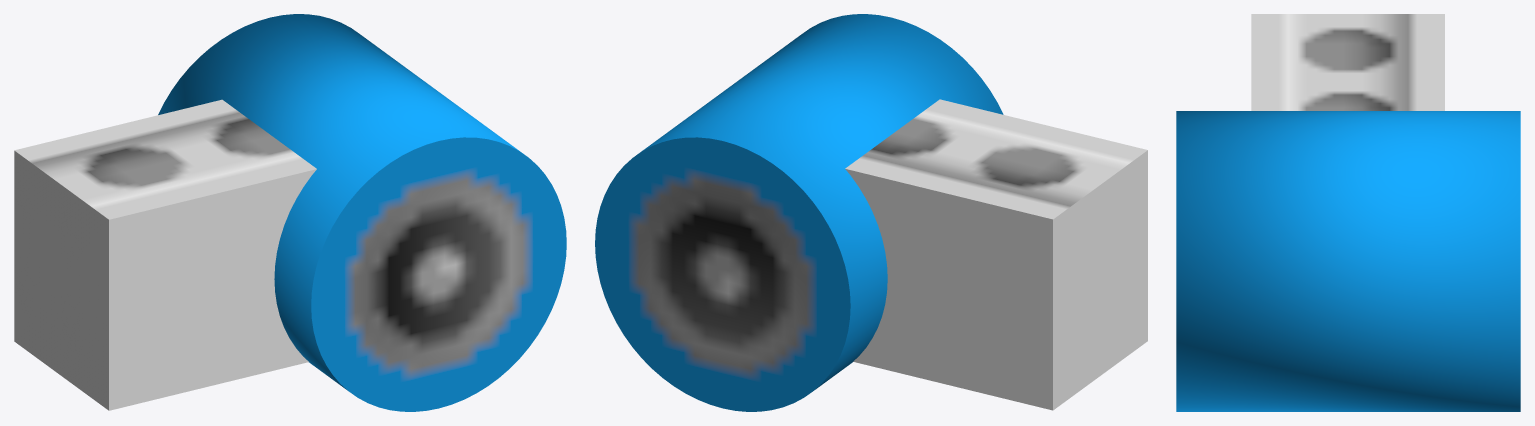
File: lem4.obj
3 renders of one model, left to right at view 1: azimuth 30°, elevation 25°; view 2: azimuth 150°, elevation 25°; view 3: azimuth 270°, elevation 25°, orthographic. The views are drawn at different scales.
Parts seen in each view (by area): view 1: ColobotMesh_1.001_ColobotMesh_.001, ColobotMesh_1_ColobotMesh_; view 2: ColobotMesh_1.001_ColobotMesh_.001, ColobotMesh_1_ColobotMesh_; view 3: ColobotMesh_1.001_ColobotMesh_.001, ColobotMesh_1_ColobotMesh_.
Part boxes in pixels (box(x1,y1,x2,y2)): ColobotMesh_1.001_ColobotMesh_.001: box(158, 14, 566, 411); ColobotMesh_1_ColobotMesh_: box(14, 99, 316, 410); ColobotMesh_1.001_ColobotMesh_.001: box(595, 14, 1003, 411); ColobotMesh_1_ColobotMesh_: box(845, 99, 1147, 410); ColobotMesh_1.001_ColobotMesh_.001: box(1176, 111, 1520, 411); ColobotMesh_1_ColobotMesh_: box(1251, 14, 1444, 110).
Size of the model in its own units: 2.31 by 1.4 by 1.6.
